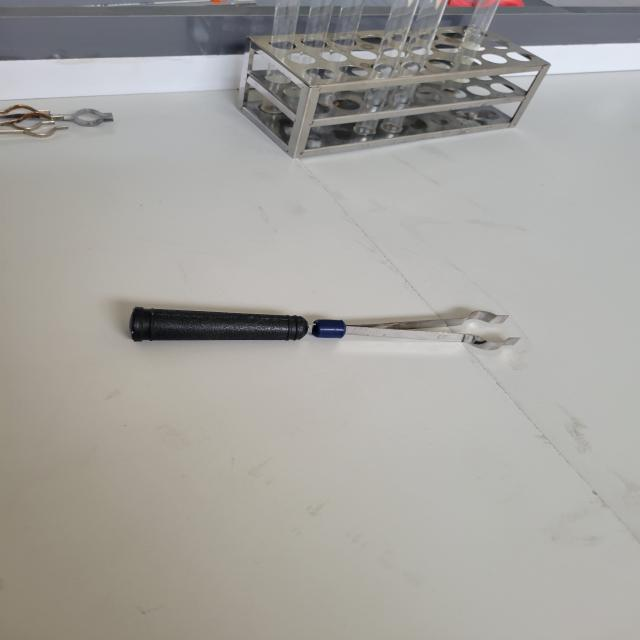TestTube_Holder: (87, 258, 546, 404)
